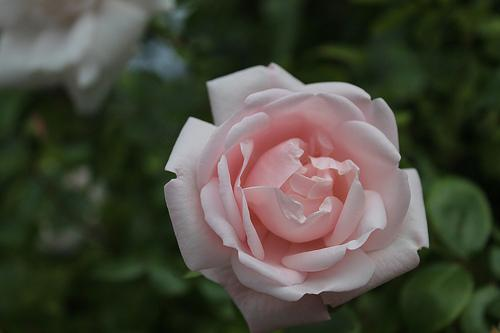Rose: (156, 59, 429, 324)
